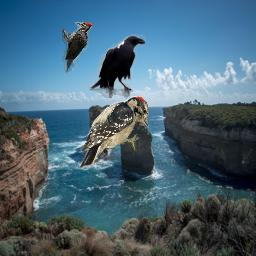Crow: (88, 34, 146, 100)
Woodpecker: (73, 95, 149, 171), (62, 22, 93, 73)
